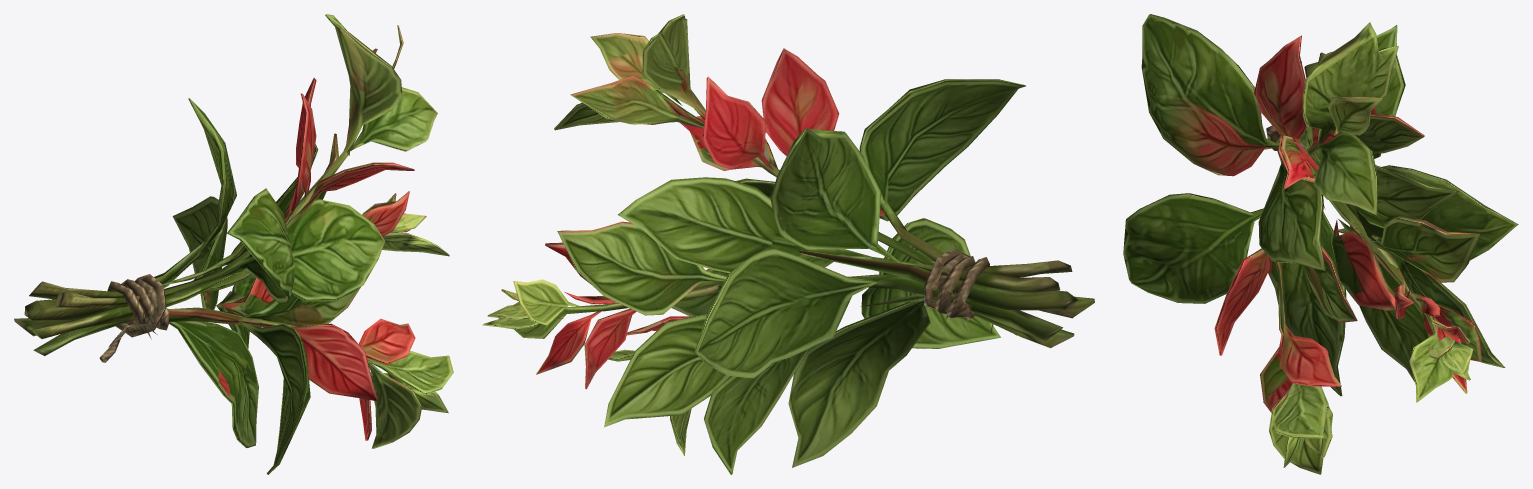
Rendered from herb.glb.
3 renders of one model, left to right at view 1: azimuth 30°, elevation 25°; view 2: azimuth 150°, elevation 25°; view 3: azimuth 270°, elevation 25°, orthographic. The views are drawn at different scales.
Size of the model in its own units: 0.26 by 0.2187 by 0.1777.
Materials: 1 (1 with a texture image).
